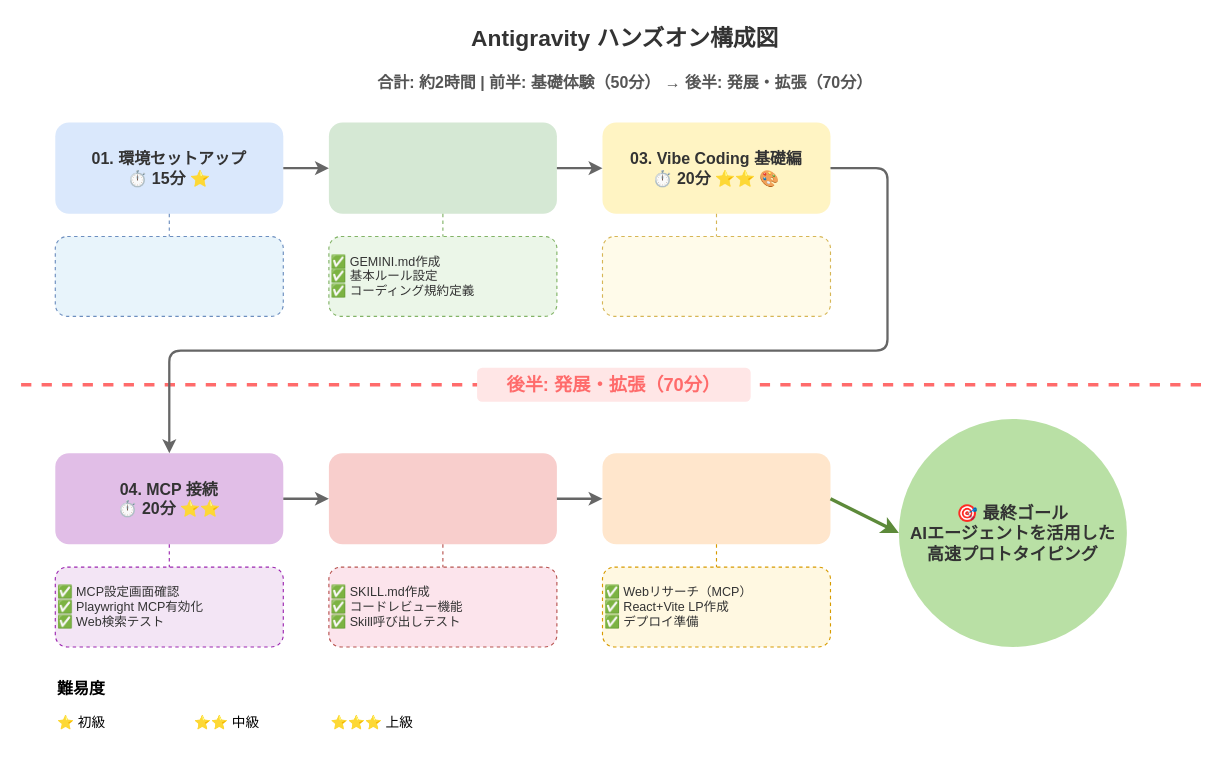
Image size: 1229x759. Some labels were removed from this diagram. The shapes that lost their labels are listed below. From the top down, each one's box as (x1, y1, x2, y2) in pixels, then its label:
(328, 122, 556, 213): 02. GEMINI.md 設定 ⏱️ 15分 ⭐
(54, 235, 283, 316): ✅ Antigravityインストール ✅ Googleアカウントログイン ✅ ワークスペース作成
(601, 235, 830, 316): ✅ HTMLページ作成 ✅ デザインカスタマイズ ✅ Nano Banana画像生成
(328, 453, 556, 544): 05. Agent Skills 作成 ⏱️ 20分 ⭐⭐⭐
(602, 453, 830, 544): 06. Vibe Coding 発展編 ⏱️ 30分 ⭐⭐⭐ 🚀
